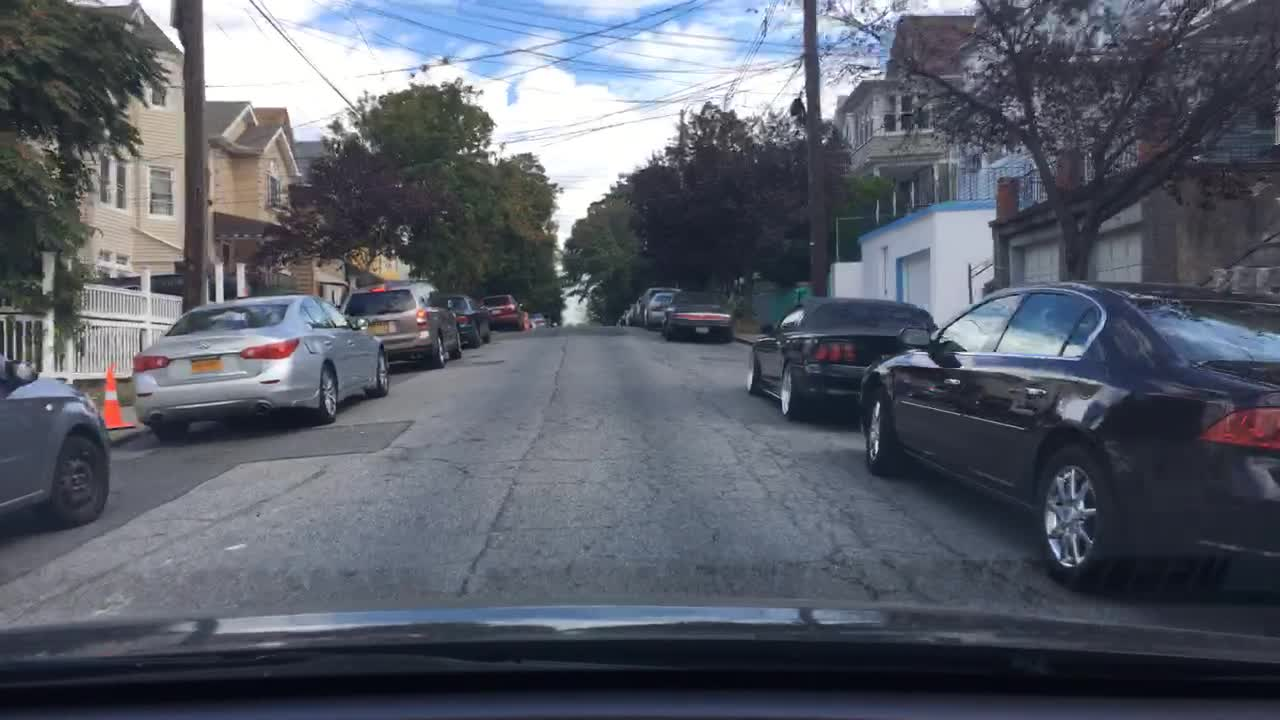car: (859, 278, 1279, 596), (133, 294, 390, 440), (744, 297, 939, 418), (0, 354, 111, 529), (341, 280, 461, 371), (662, 290, 735, 343), (429, 292, 490, 348), (636, 286, 681, 328), (480, 294, 527, 329), (646, 290, 681, 328), (630, 302, 643, 328), (623, 308, 634, 328), (534, 312, 547, 325), (545, 315, 558, 327), (616, 317, 627, 327), (526, 316, 535, 328)
